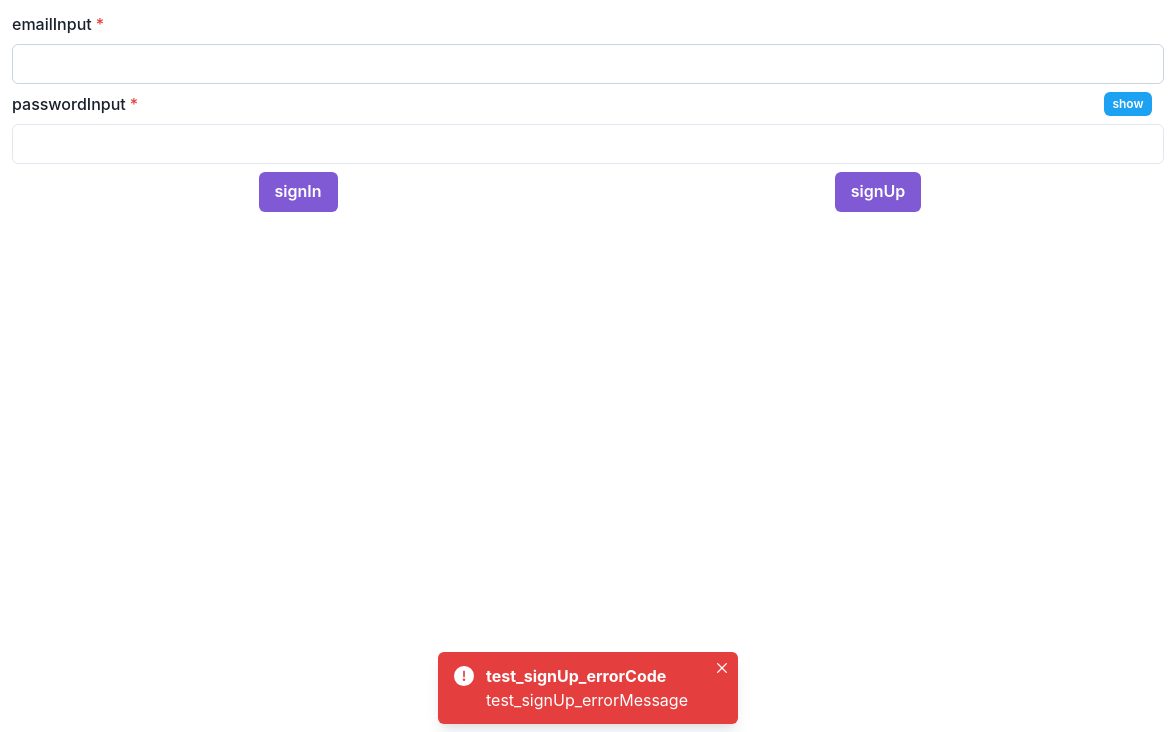
Scenario: EmailLogin component › Sign In
Type "test@test.test" into the field with test id "emailInput". click: [588, 64]
box: [12,44,1164,84]
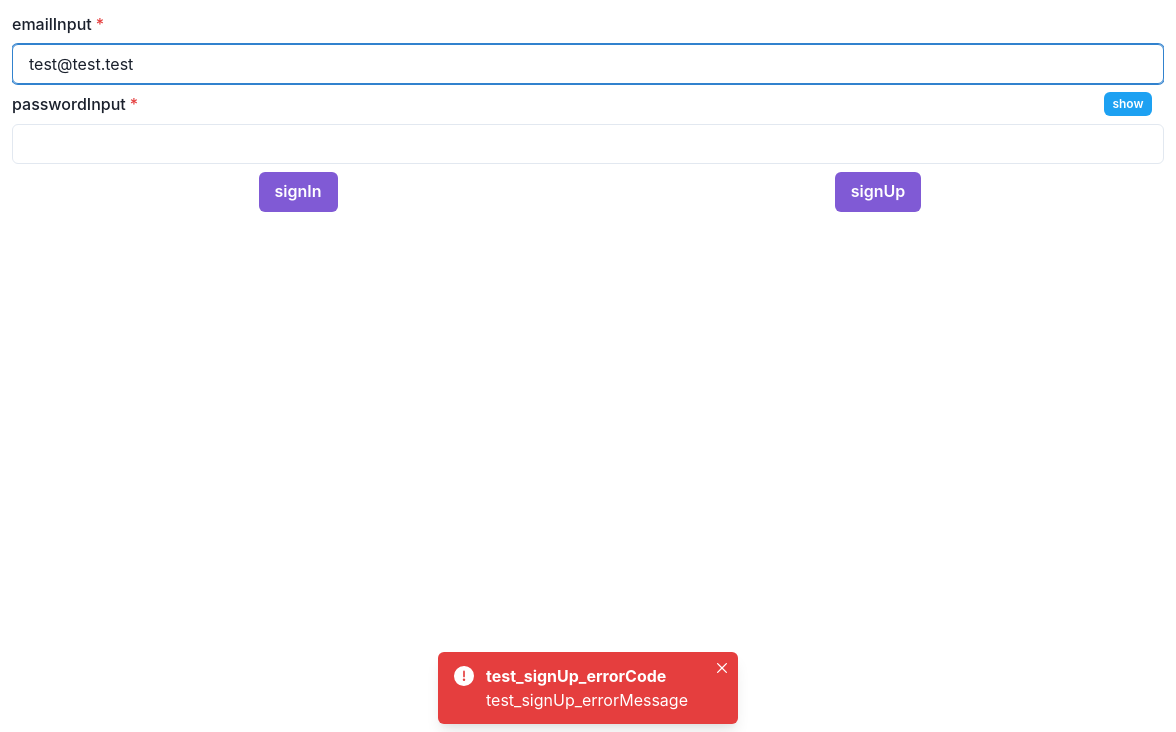
Type "test_password" into the password field with test id "passwordInput". click: [588, 144]
box: [12,124,1164,164]
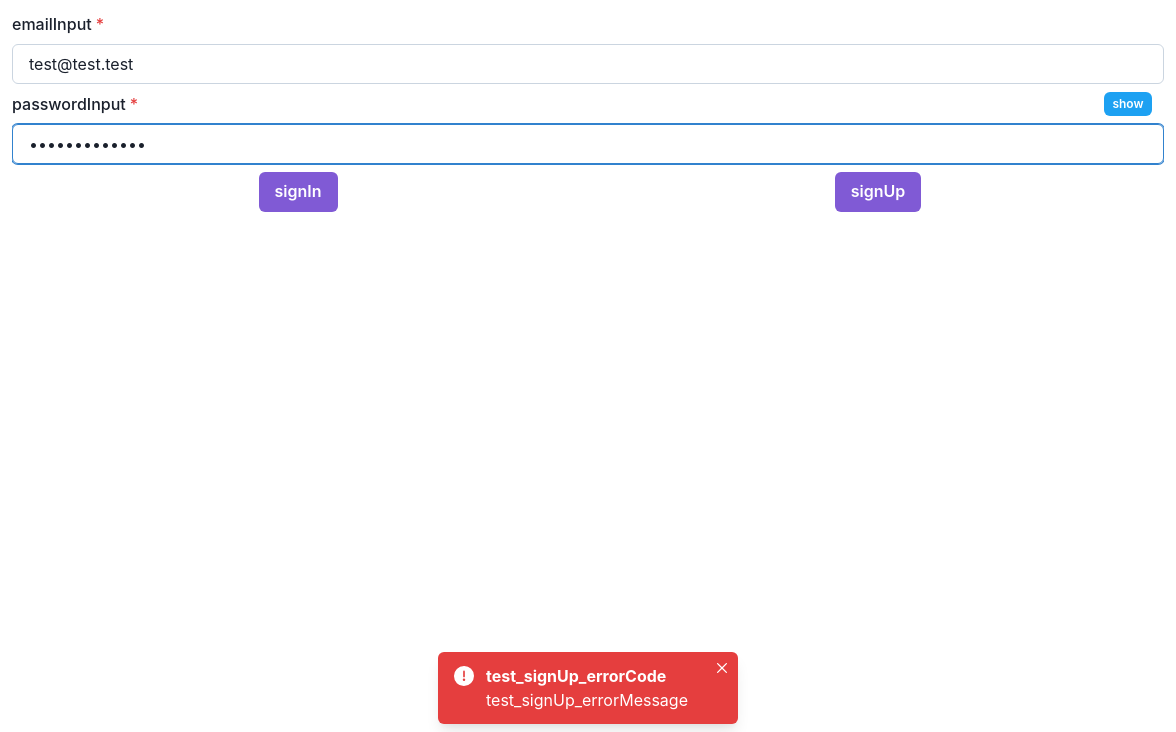
Click the button with test id "signIn". click: [298, 192]
box: [258,172,338,212]
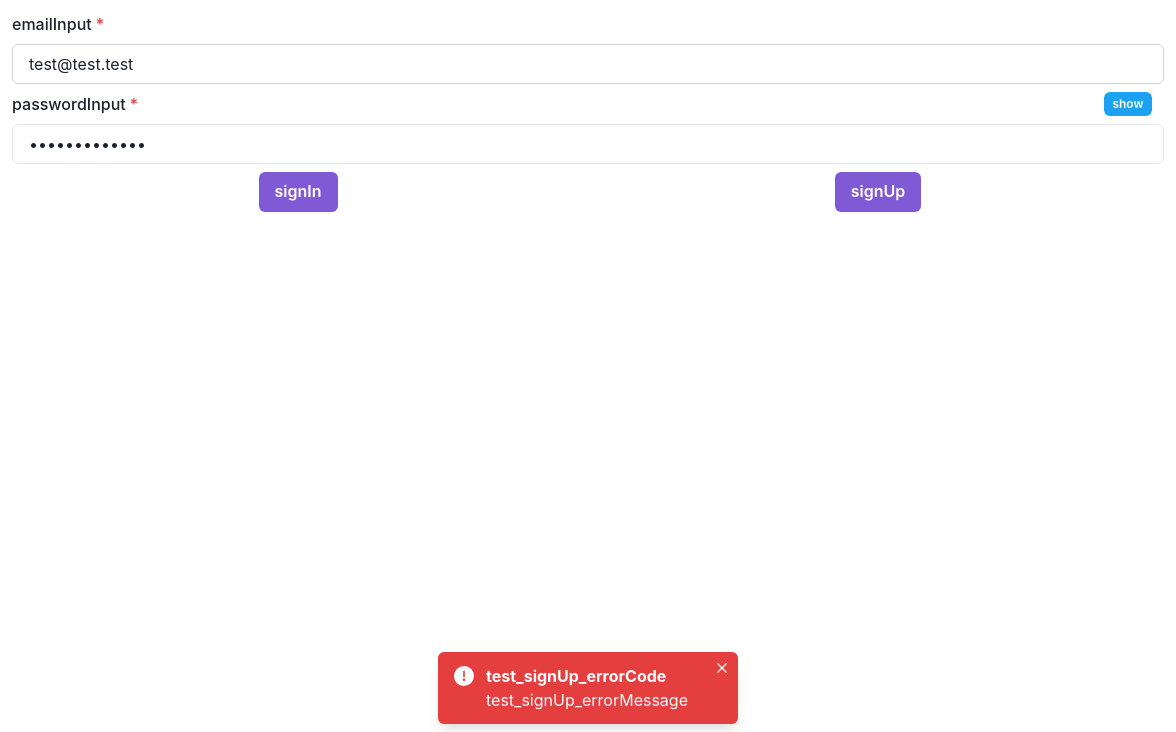
Click the button with test id "signIn". click: [298, 192]
box: [258,172,338,212]
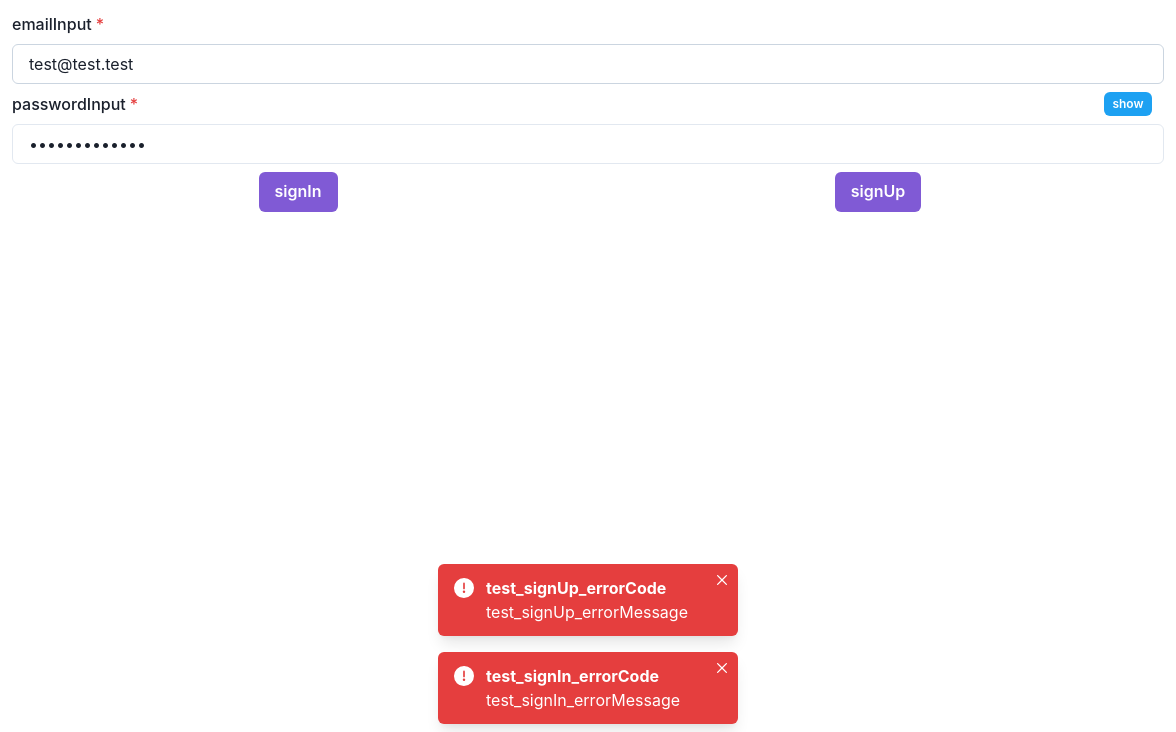
Check: the 2nd text "test_signIn_errorCode" is shown, box [486,666,659,686]
